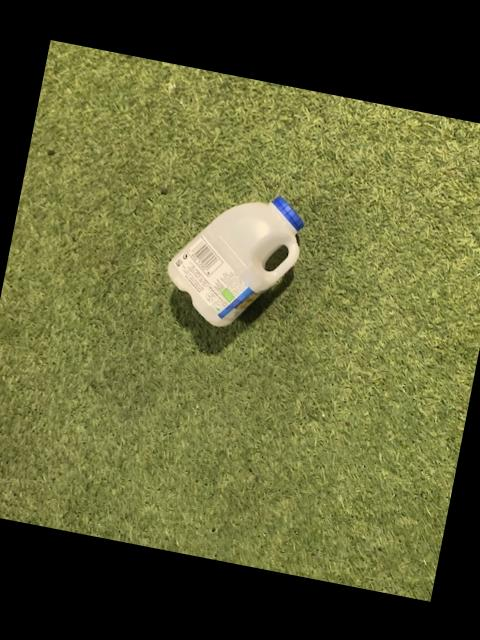plastic: (169, 197, 304, 327)
